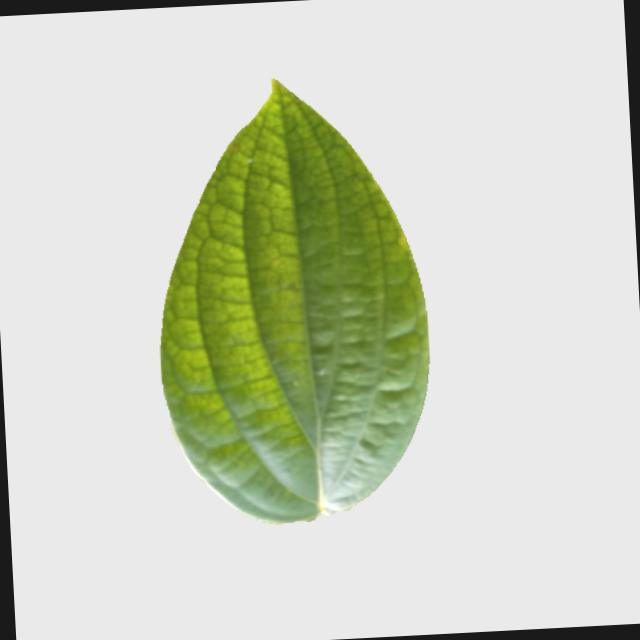healthy: (144, 68, 447, 530)
